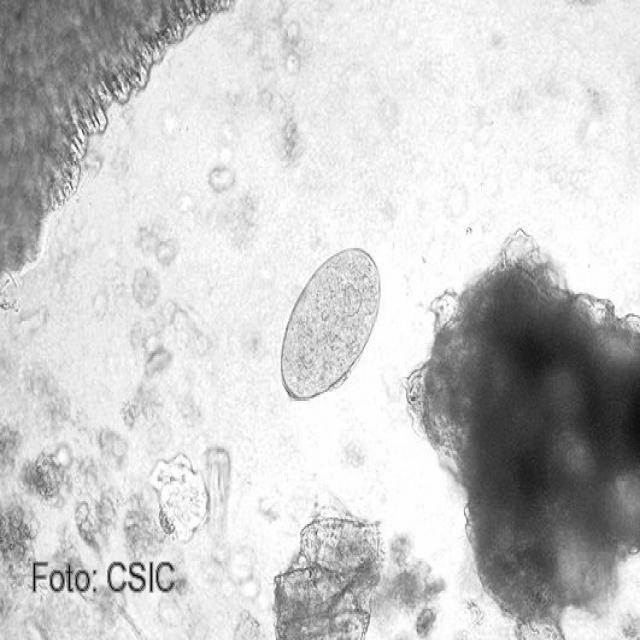Fasciola Hepatica: (273, 241, 384, 407)
